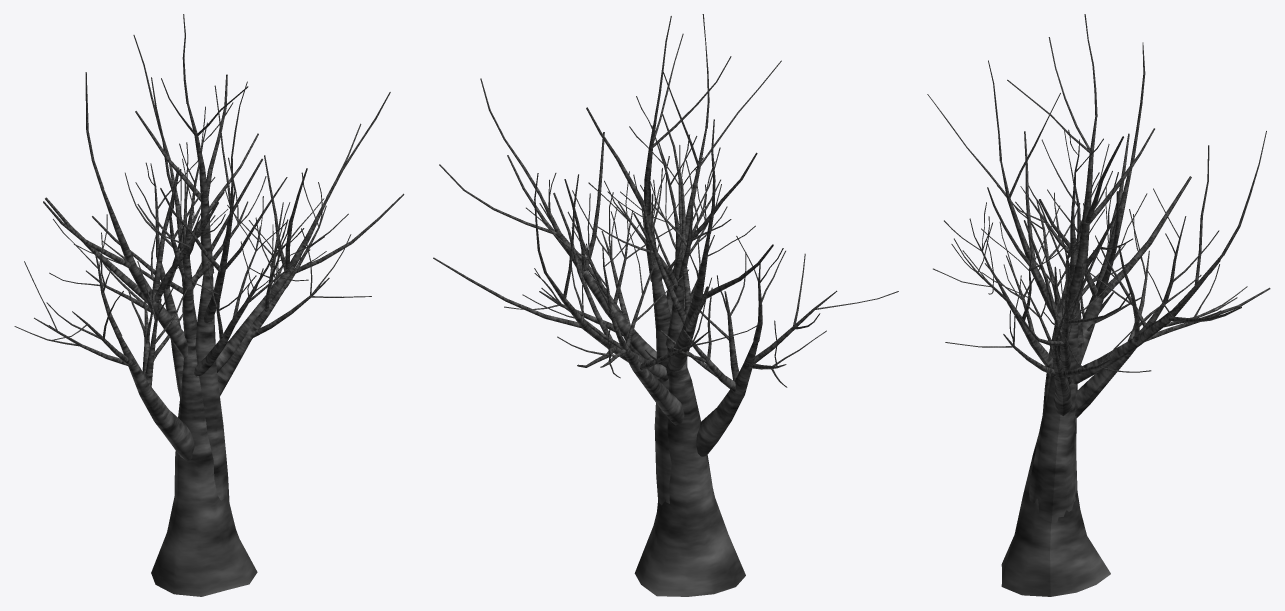
File: trunk_payment_001_meshopt.glb
3 views of the same model, side by side, from view 1: azimuth 30°, elevation 25°; view 2: azimuth 150°, elevation 25°; view 3: azimuth 270°, elevation 25° (orthographic). The views are drawn at different scales.
Visible parts, largest first — view 1: Bark; view 2: Bark; view 3: Bark.
Part boxes in pixels (bbox=[...]): Bark: bbox=[14, 14, 404, 596]; Bark: bbox=[433, 14, 898, 596]; Bark: bbox=[927, 14, 1270, 596].
Size of the model in its own units: 4.35 by 6.09 by 3.37.
1 material, 1 textured.
